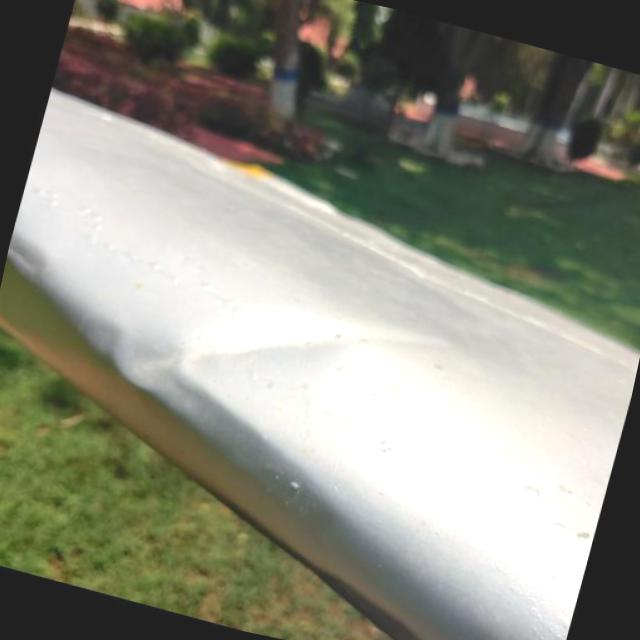dent: (66, 235, 398, 476), (7, 230, 52, 288)
